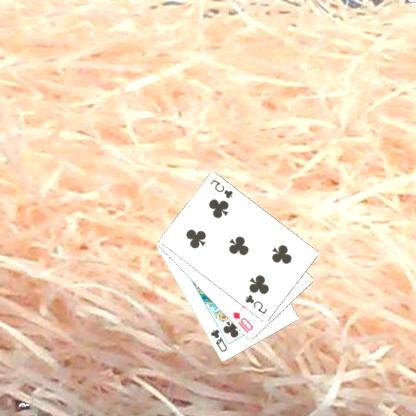10D: (232, 310, 256, 334)
5C: (244, 292, 271, 316), (209, 177, 236, 200)
QC: (209, 326, 230, 354)
